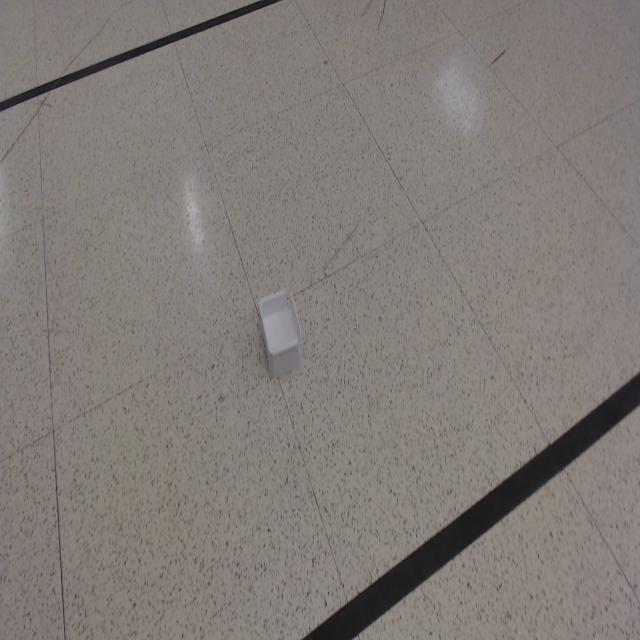wbox: (257, 285, 304, 379)
